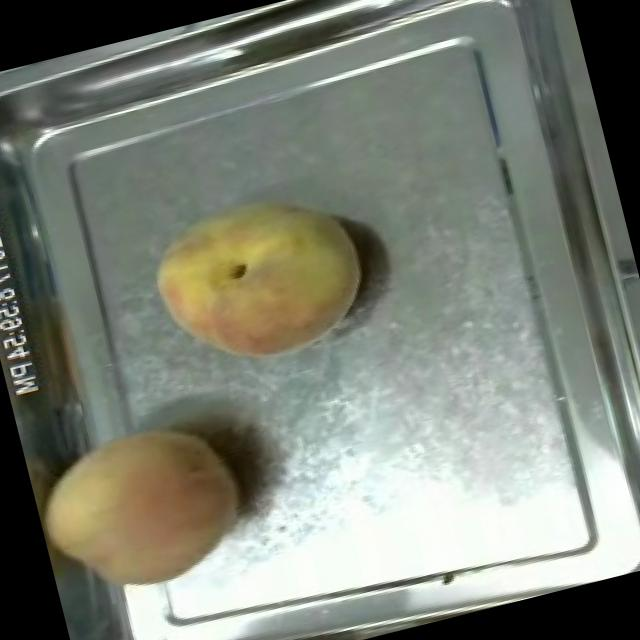Fruit: (132, 166, 386, 390), (22, 396, 270, 614)
